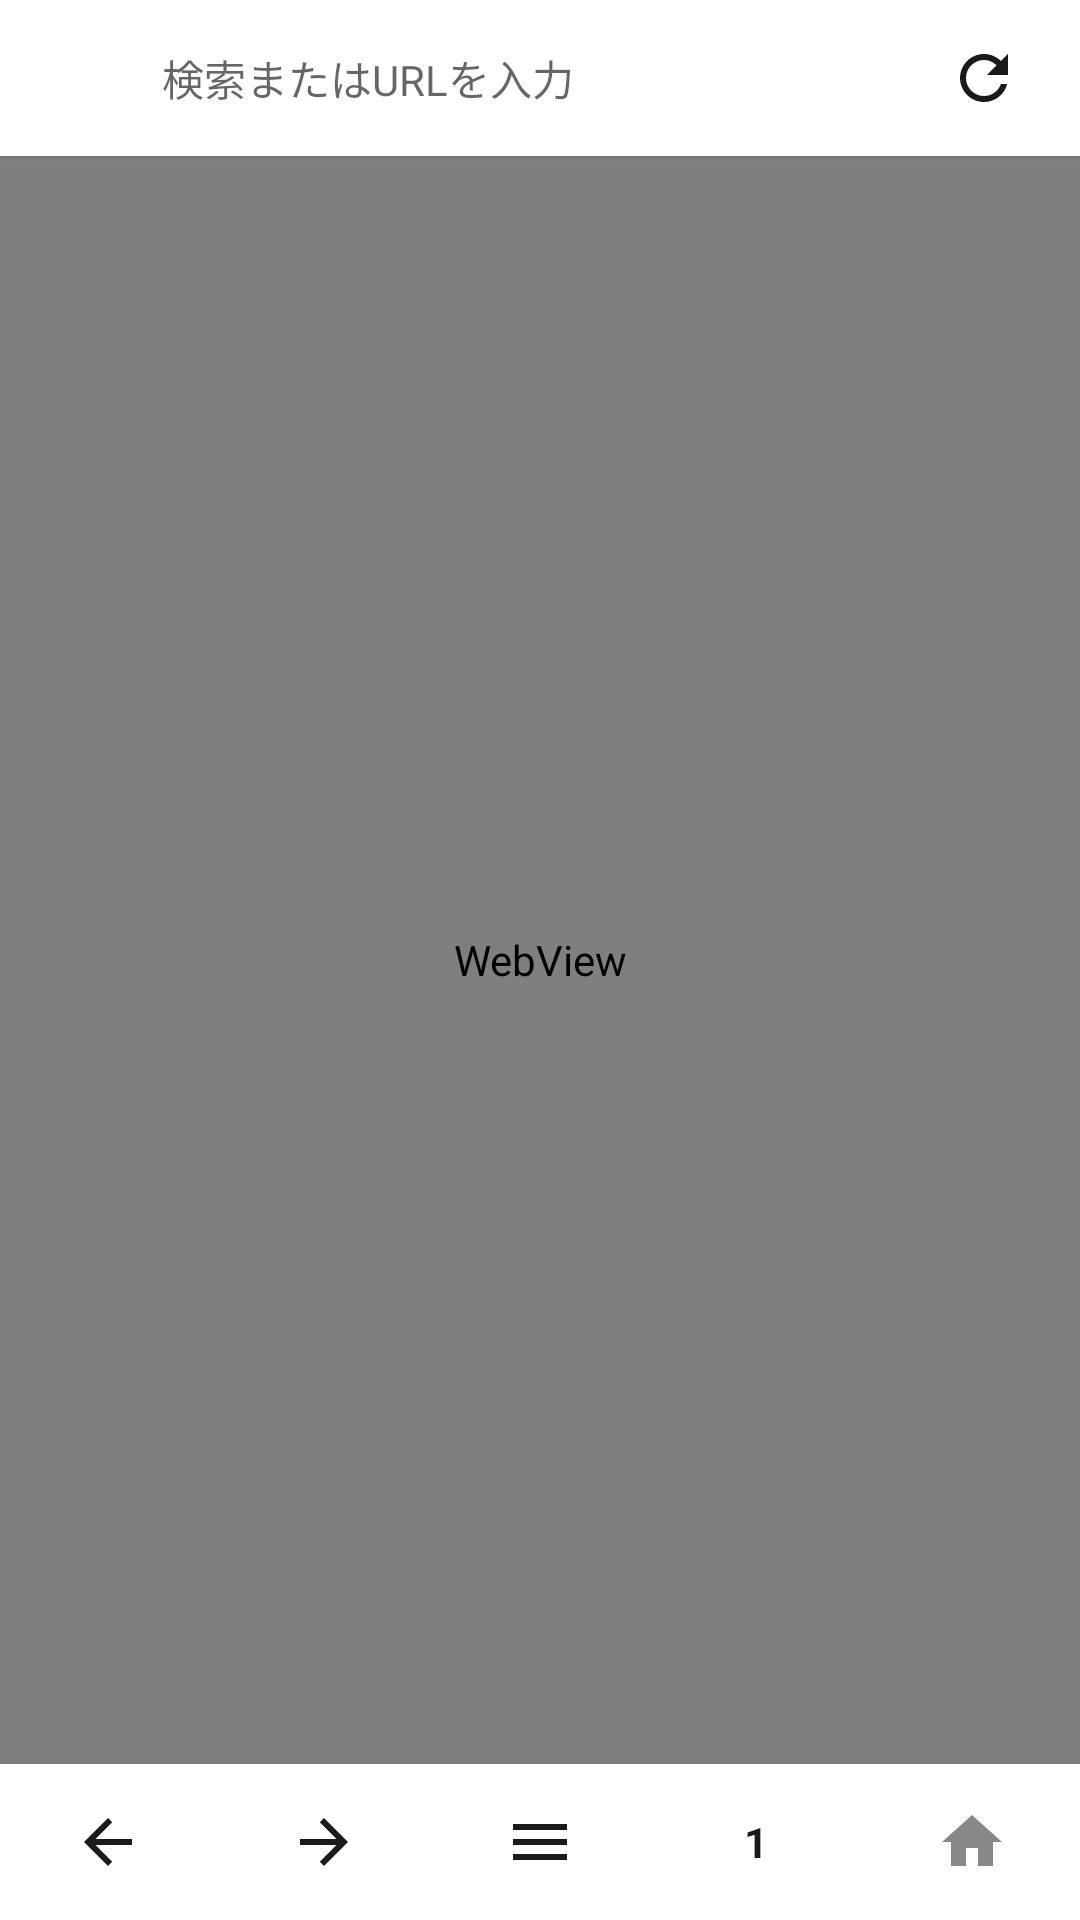

Icon bounding boxes for this 1080 x 1920 phone screenshot, format box=[x1, y1, x2, y2]:
reload: box=[960, 54, 1008, 102]
ホーム: box=[942, 1815, 1002, 1866]
メニュー: box=[513, 1824, 567, 1860]
戻る: box=[84, 1818, 132, 1866]
進む: box=[300, 1818, 348, 1866]
